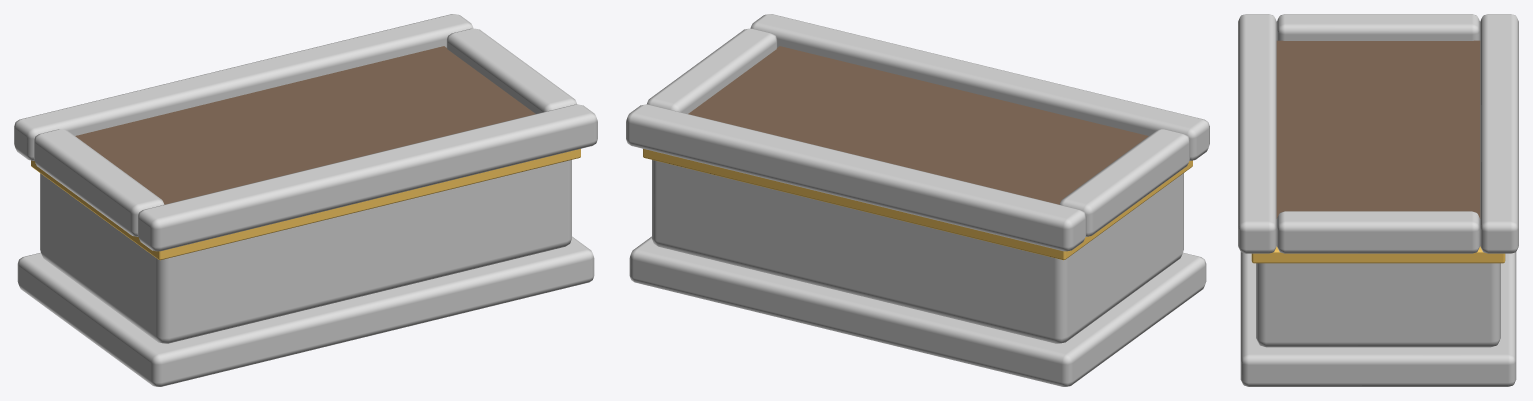
File: Lobby_PROP_PlanterLong.fbx
The picture shows the model from 3 angles, left to right: view 1: azimuth 30°, elevation 25°; view 2: azimuth 150°, elevation 25°; view 3: azimuth 270°, elevation 25°; orthographic projection. The views are drawn at different scales.
Parts seen in each view (by area): view 1: Lobby_PROP_PlanterLong__Marble, Lobby_PROP_PlanterLong__Soil, Lobby_PROP_PlanterLong__Gold; view 2: Lobby_PROP_PlanterLong__Marble, Lobby_PROP_PlanterLong__Soil, Lobby_PROP_PlanterLong__Gold; view 3: Lobby_PROP_PlanterLong__Marble, Lobby_PROP_PlanterLong__Soil, Lobby_PROP_PlanterLong__Gold.
Part boxes in pixels (x1,y1,x2,y2): Lobby_PROP_PlanterLong__Marble: [14, 14, 597, 386]; Lobby_PROP_PlanterLong__Soil: [75, 46, 535, 204]; Lobby_PROP_PlanterLong__Gold: [31, 149, 580, 260]; Lobby_PROP_PlanterLong__Marble: [626, 14, 1209, 386]; Lobby_PROP_PlanterLong__Soil: [688, 46, 1148, 204]; Lobby_PROP_PlanterLong__Gold: [643, 149, 1192, 260]; Lobby_PROP_PlanterLong__Marble: [1238, 14, 1518, 386]; Lobby_PROP_PlanterLong__Soil: [1276, 40, 1480, 218]; Lobby_PROP_PlanterLong__Gold: [1251, 246, 1505, 263].
Bounding box in the file's own units: 4.95 × 1.8 × 2.75.
